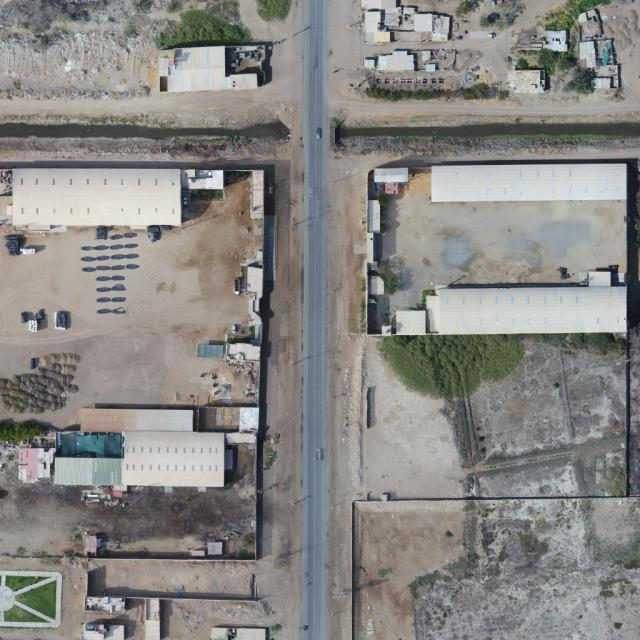building: (12, 169, 181, 226), (438, 286, 627, 334), (431, 163, 627, 203), (121, 431, 225, 487), (158, 44, 267, 93), (364, 6, 452, 43), (80, 407, 194, 433), (575, 30, 622, 93), (54, 458, 121, 486), (225, 45, 265, 83), (19, 448, 55, 481), (507, 70, 545, 93), (577, 10, 603, 39), (85, 596, 125, 612), (145, 599, 160, 639), (544, 30, 568, 53), (361, 1, 396, 10)
dryland: (366, 137, 637, 312), (0, 34, 320, 179), (370, 152, 634, 320), (361, 335, 626, 499), (0, 449, 268, 581), (89, 559, 301, 640), (0, 84, 293, 141), (302, 0, 328, 639), (0, 134, 289, 175), (438, 286, 627, 334), (0, 134, 289, 161), (88, 557, 261, 602), (335, 133, 640, 157), (0, 556, 86, 640)
greenland: (379, 335, 526, 399), (158, 44, 267, 93), (153, 6, 253, 49), (0, 420, 45, 443), (564, 69, 591, 94)
unmetalled_road: (335, 121, 640, 141), (635, 294, 640, 327)
